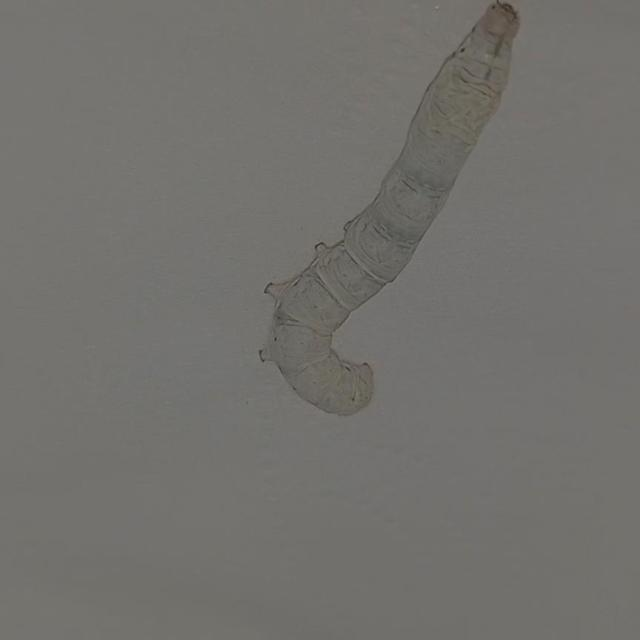Healthy: (248, 6, 525, 421)
